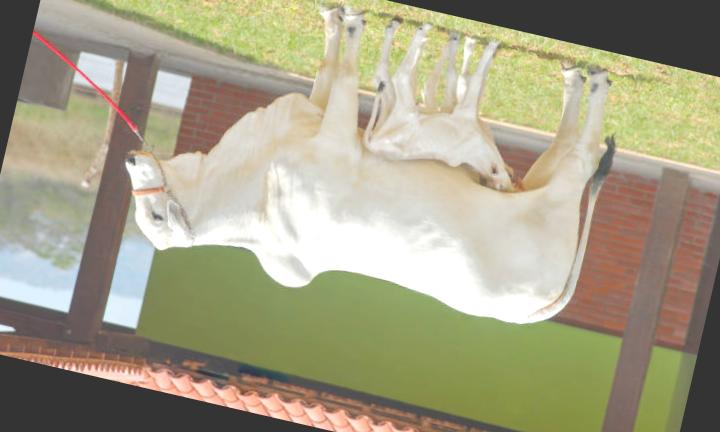Brahman: (125, 7, 609, 323), (362, 21, 522, 193)
